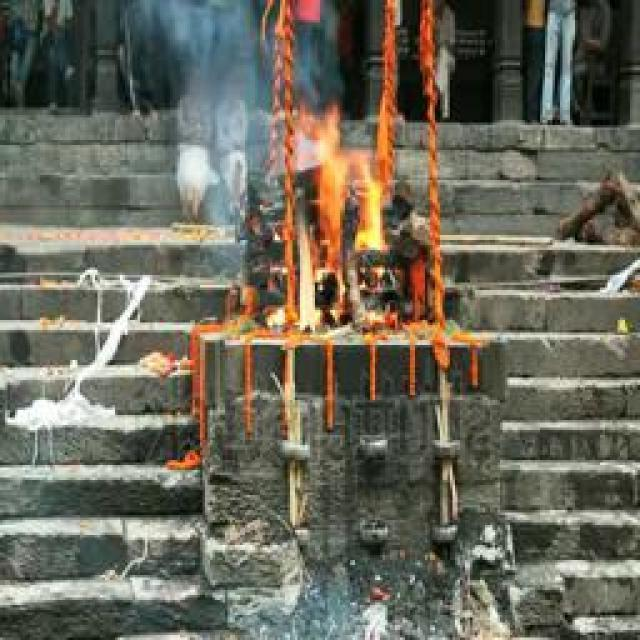Fire: (290, 116, 386, 333)
